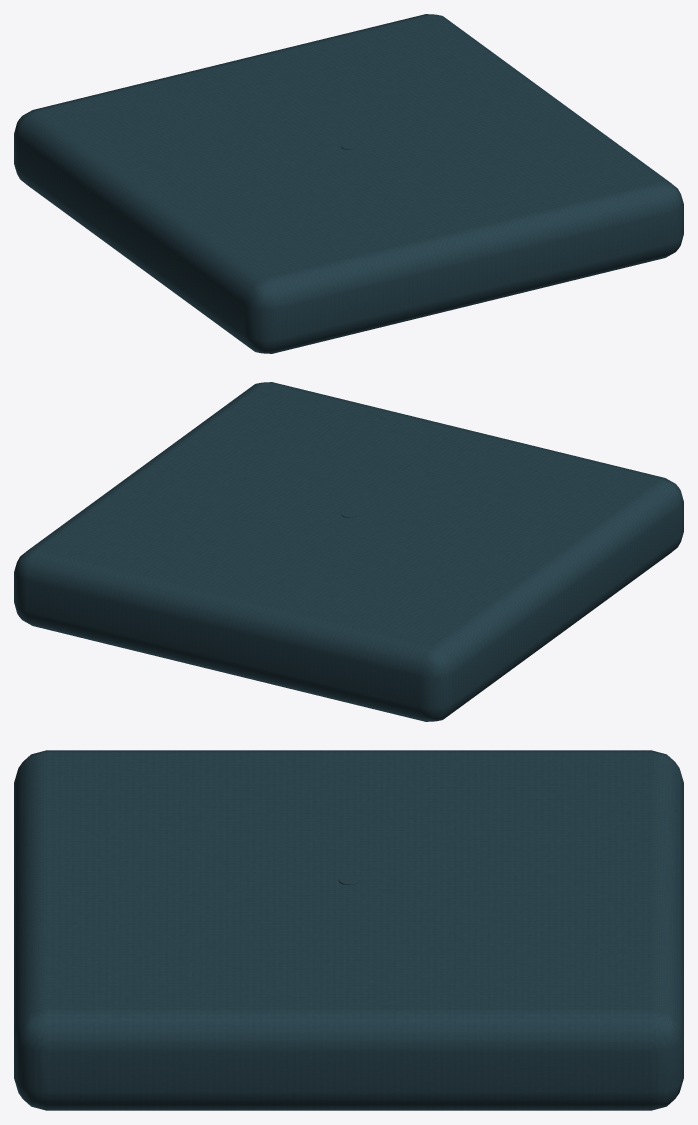
File: zabuton.glb
3 views of the same model, one above another, from view 1: azimuth 30°, elevation 25°; view 2: azimuth 150°, elevation 25°; view 3: azimuth 270°, elevation 25° (orthographic). The views are drawn at different scales.
Parts seen in each view (by area): view 1: zabuton; view 2: zabuton; view 3: zabuton.
Boxes of the visible parts, x1,y1,x2,y2 form: zabuton: (14, 14, 683, 353); zabuton: (14, 382, 683, 721); zabuton: (14, 750, 683, 1110).
Size of the model in its own units: 0.52 by 0.086 by 0.52.
Materials: 2 (2 with a texture image).
